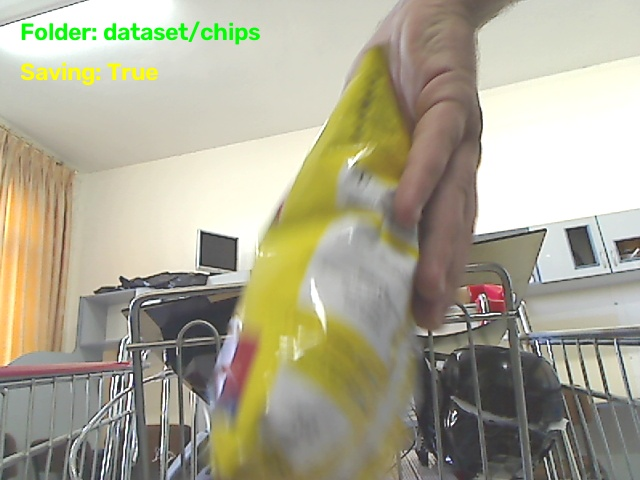chips: (211, 49, 417, 479)
